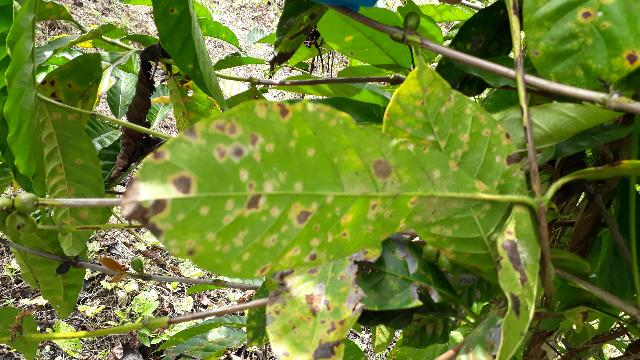rust_level_4: (143, 79, 525, 264)
